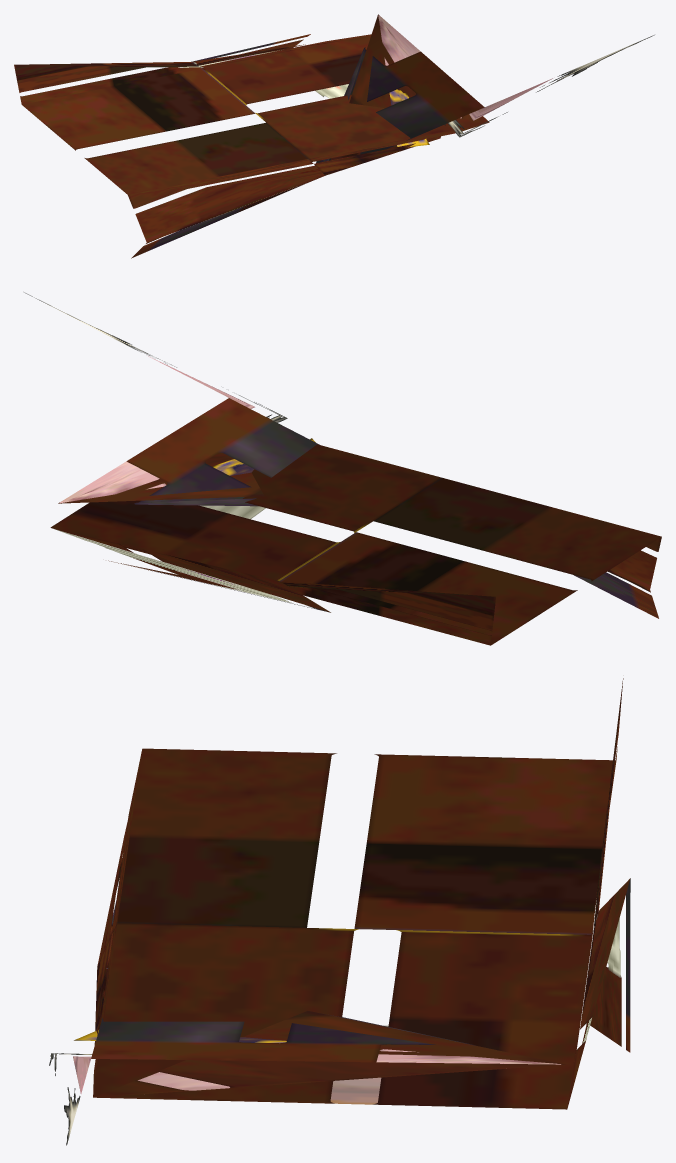
The picture shows the model from 3 angles, top to bottom: view 1: azimuth 30°, elevation 25°; view 2: azimuth 150°, elevation 25°; view 3: azimuth 270°, elevation 25°; orthographic projection. The views are drawn at different scales.
Parts seen in each view (by area): view 1: T1L2M002_17; view 2: T1L2M002_17; view 3: T1L2M002_17.
Part boxes in pixels (box(x1,y1,x2,y2)): T1L2M002_17: box(14, 14, 654, 258); T1L2M002_17: box(24, 292, 661, 645); T1L2M002_17: box(49, 678, 630, 1145).
Bounding box in the file's own units: 1.73 × 0.3711 × 0.8517.
